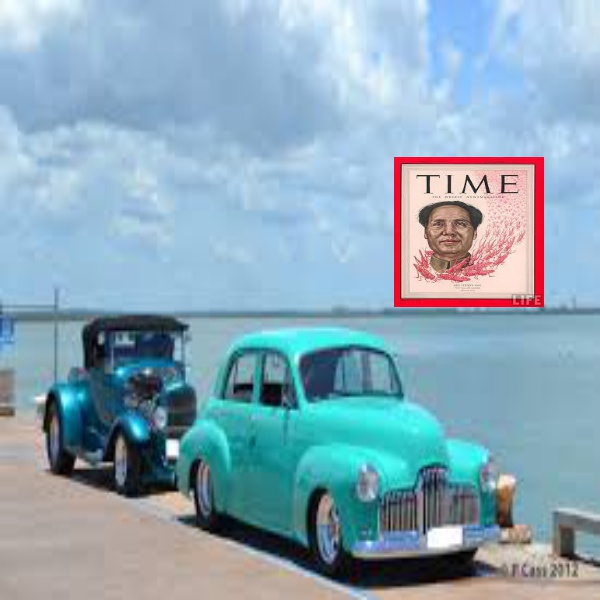time_cover: (388, 143, 552, 316)
